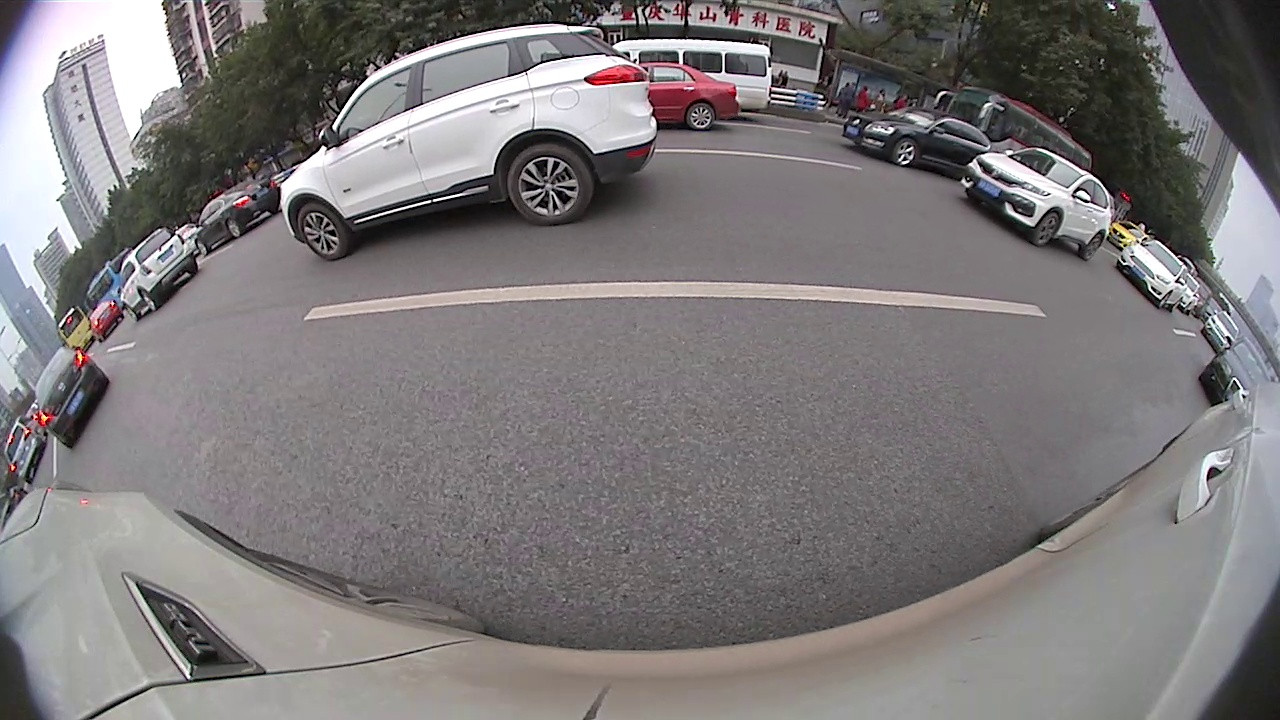bus: (935, 78, 1094, 167)
car: (276, 19, 657, 264), (958, 146, 1115, 264), (610, 35, 771, 113), (838, 104, 993, 166), (30, 345, 111, 449), (114, 227, 201, 320), (632, 61, 739, 131), (195, 169, 278, 253), (1115, 235, 1190, 312), (1200, 335, 1265, 404), (1, 416, 48, 479), (85, 299, 120, 339)
front: (298, 200, 348, 259), (1032, 213, 1060, 248), (893, 138, 918, 166), (123, 302, 139, 319), (195, 238, 208, 256), (1157, 294, 1172, 309), (1182, 301, 1193, 315)
rear: (506, 144, 592, 227), (687, 102, 714, 130), (1082, 231, 1104, 261), (138, 289, 159, 312), (226, 217, 241, 239), (1170, 300, 1181, 313)
